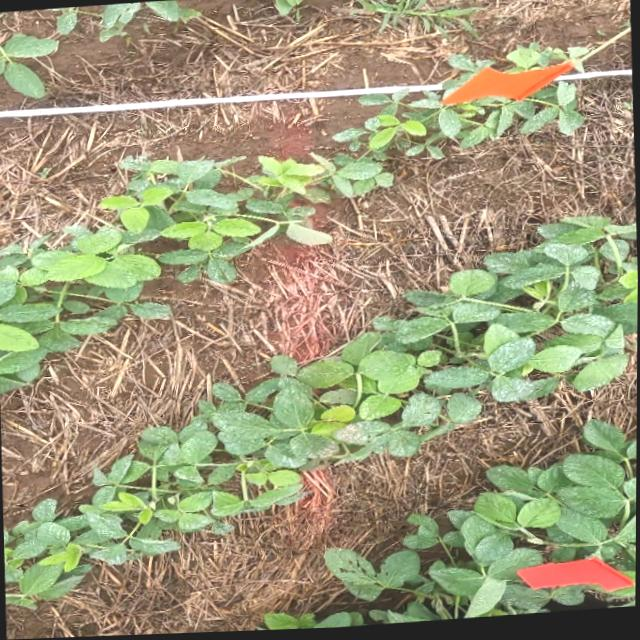grassy_weed: (356, 0, 478, 38)
soy_plant: (25, 221, 638, 571), (0, 86, 582, 387), (325, 423, 637, 627), (4, 498, 178, 606), (49, 0, 199, 41), (0, 32, 58, 97), (259, 613, 367, 632), (506, 46, 540, 72), (274, 0, 300, 15)
